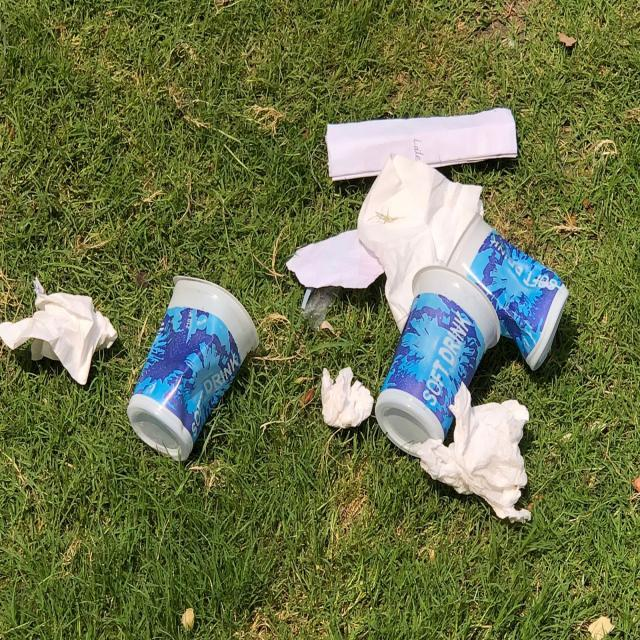garbage: (274, 99, 588, 542), (122, 270, 268, 470), (0, 268, 118, 383)
